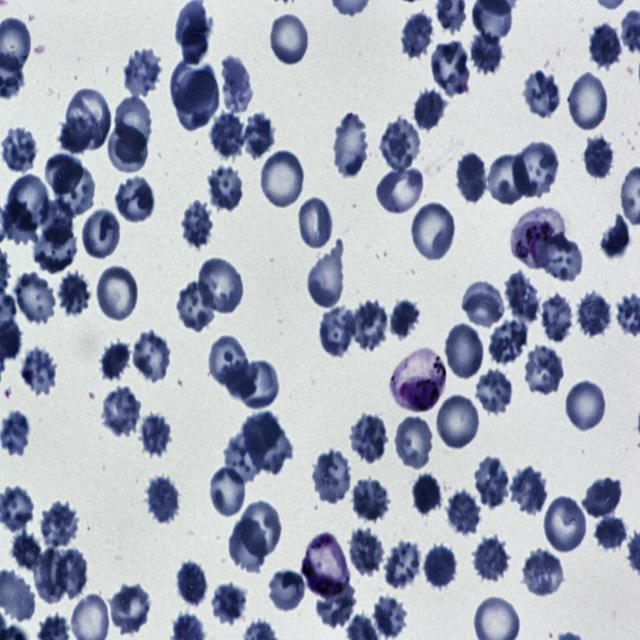red blood cell: (410, 199, 458, 264), (259, 147, 307, 211), (174, 67, 220, 132), (510, 140, 561, 198), (64, 88, 112, 149), (543, 494, 590, 555), (305, 238, 344, 310), (94, 262, 140, 323), (566, 71, 611, 133), (434, 394, 482, 452), (246, 412, 290, 474), (238, 500, 282, 562), (197, 257, 244, 315), (6, 174, 52, 232), (376, 164, 426, 217), (392, 415, 437, 471), (485, 154, 532, 207), (174, 280, 220, 334), (430, 39, 472, 98), (112, 90, 154, 149), (206, 334, 250, 390), (534, 234, 584, 283), (444, 322, 486, 380), (461, 277, 506, 331), (98, 385, 142, 440), (268, 11, 311, 66), (379, 117, 422, 172), (311, 448, 353, 504), (565, 378, 608, 432), (334, 111, 368, 179), (130, 329, 172, 384), (14, 270, 56, 325), (349, 298, 390, 354), (227, 518, 268, 574), (472, 453, 512, 510), (34, 225, 79, 275), (218, 55, 253, 118), (108, 584, 151, 635), (522, 549, 566, 598), (524, 346, 566, 396), (520, 69, 561, 120), (224, 432, 265, 483), (20, 345, 58, 400), (297, 195, 334, 251), (80, 209, 121, 259), (105, 126, 149, 172), (320, 302, 356, 358), (54, 164, 94, 214), (470, 533, 512, 580), (348, 414, 388, 463), (576, 288, 614, 339), (486, 319, 528, 365), (33, 547, 67, 603), (178, 200, 216, 250), (114, 176, 155, 222), (584, 474, 624, 521), (474, 367, 514, 414), (455, 151, 489, 206), (351, 476, 391, 522), (316, 582, 356, 628), (239, 361, 278, 408), (1, 197, 38, 246), (122, 51, 164, 94), (539, 292, 573, 345), (54, 549, 88, 602), (424, 542, 460, 592), (210, 467, 246, 517), (0, 126, 39, 172), (41, 501, 78, 548), (209, 109, 244, 158), (385, 542, 422, 588), (505, 270, 539, 320), (348, 528, 384, 575), (44, 152, 84, 194), (468, 30, 504, 76), (209, 165, 244, 212), (210, 582, 249, 624), (40, 198, 74, 246), (138, 412, 173, 458), (240, 112, 275, 158), (588, 21, 620, 71), (400, 12, 434, 59), (511, 466, 545, 513), (268, 568, 304, 612), (414, 88, 448, 133), (57, 270, 90, 316), (447, 489, 480, 534), (373, 596, 408, 638), (222, 358, 257, 400), (11, 531, 44, 574), (148, 476, 179, 521), (175, 560, 206, 605), (411, 471, 442, 516), (0, 410, 30, 456), (57, 115, 92, 154), (583, 135, 614, 179), (100, 338, 131, 382), (600, 212, 630, 257), (594, 514, 628, 552), (390, 299, 421, 339)
trophozoite: (392, 345, 446, 413), (510, 207, 565, 270), (302, 530, 350, 600)
